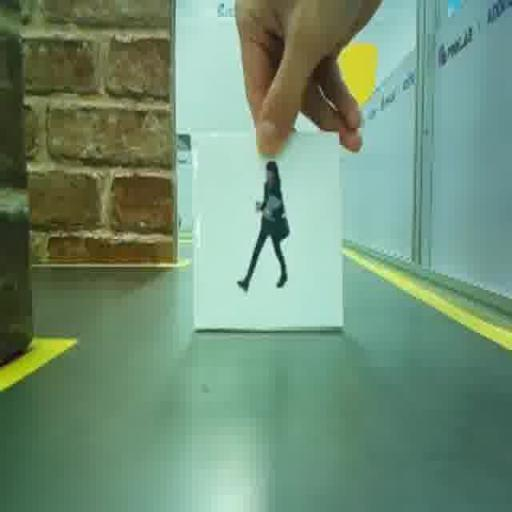human: (237, 161, 289, 291)
